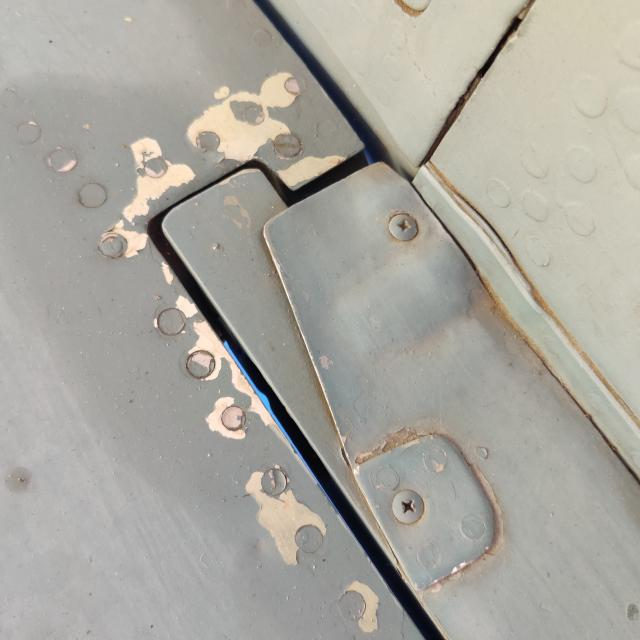paint-off: (177, 53, 358, 209), (156, 282, 305, 458), (81, 128, 211, 271), (218, 455, 346, 578), (320, 567, 397, 640)
